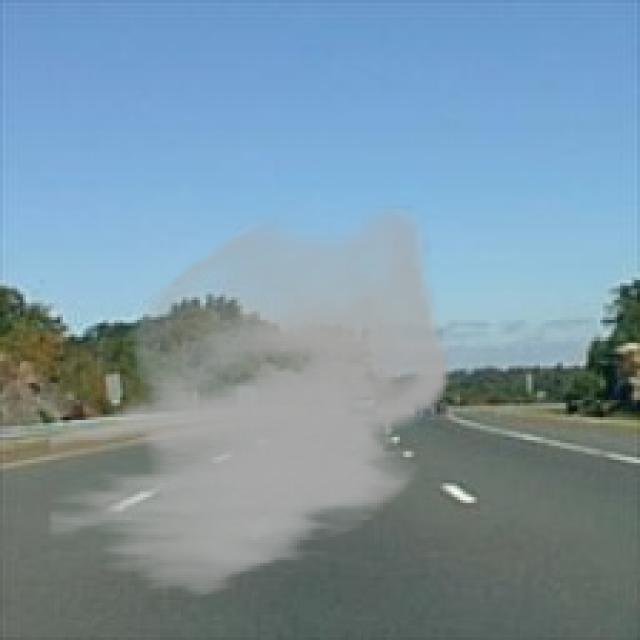smoke: (46, 206, 451, 600)
